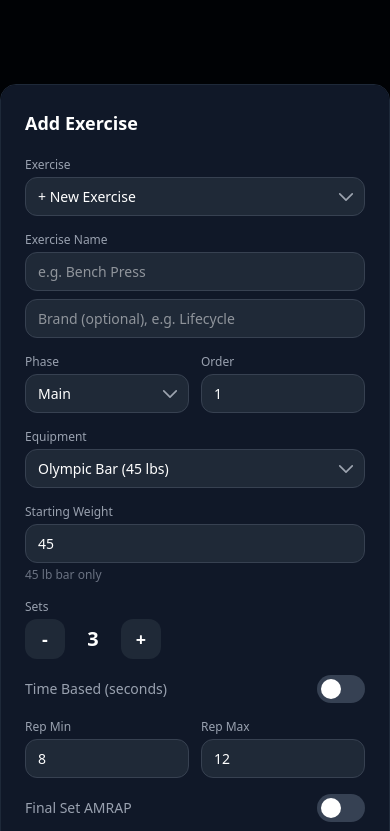
Test: ExerciseEditor › creating a new exercise › adjusts barbell weight to the nearest achievable plate combination and warns
3 lbs isn't reachable with any combination of the default plate set.
Replace the text in the number field below "Starting Weight" with "100.3": (195, 544) [25,524,365,563]
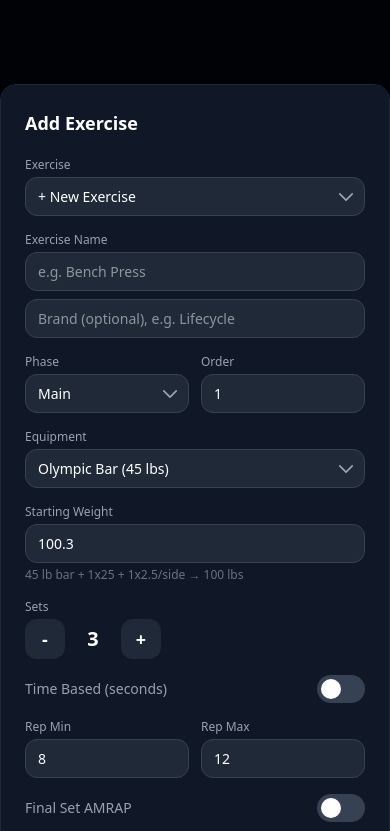
Leave the number field below "Starting Weight", box [25,524,365,563]
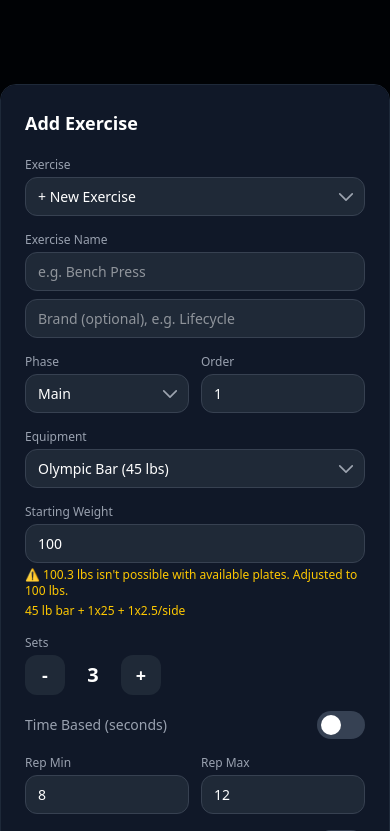
Check: the text "isn't possible with available plates" is shown, box [25,566,357,599]
Check: the number field below "Starting Weight" does not hold "100.3", box [25,524,365,563]
